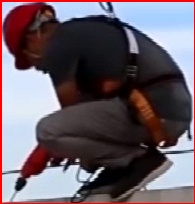helmet: (68, 5, 127, 56)
person: (10, 10, 185, 194)
